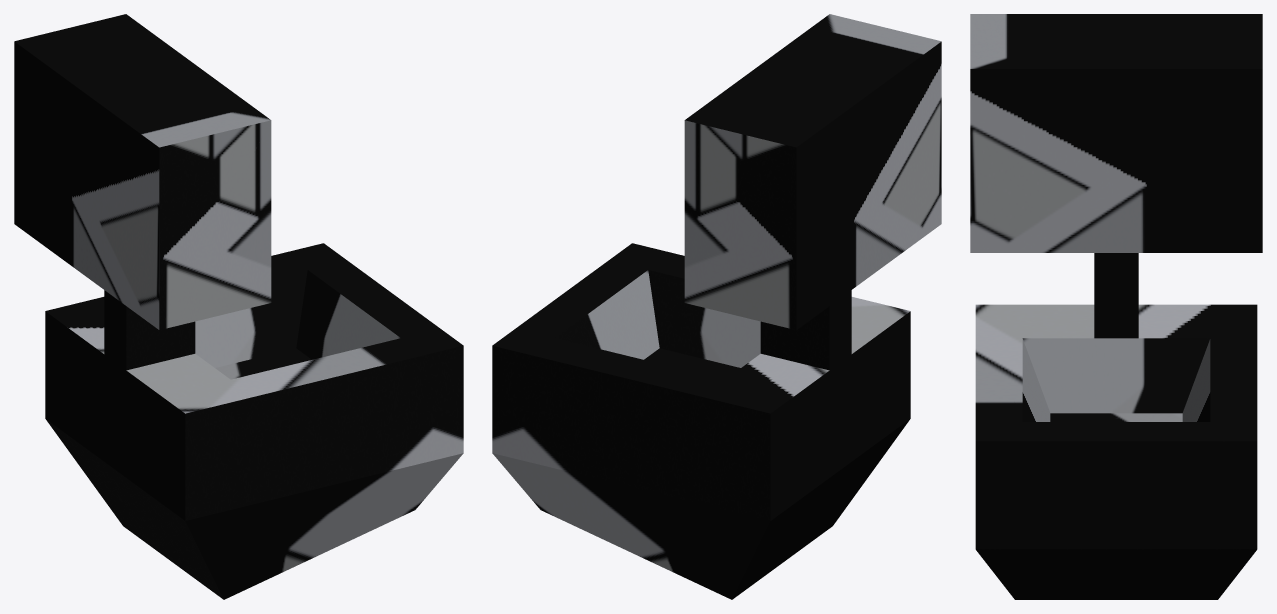
File: Toilet.fbx
3 renders of one model, left to right at view 1: azimuth 30°, elevation 25°; view 2: azimuth 150°, elevation 25°; view 3: azimuth 270°, elevation 25°, orthographic.
Visible parts, largest first — view 1: Tiolet; view 2: Tiolet; view 3: Tiolet.
Part boxes in pixels (bbox=[...]): Tiolet: bbox=[14, 14, 463, 599]; Tiolet: bbox=[492, 14, 941, 599]; Tiolet: bbox=[970, 14, 1262, 599].
Bounding box in the file's own units: 109 × 166 × 89.12.
